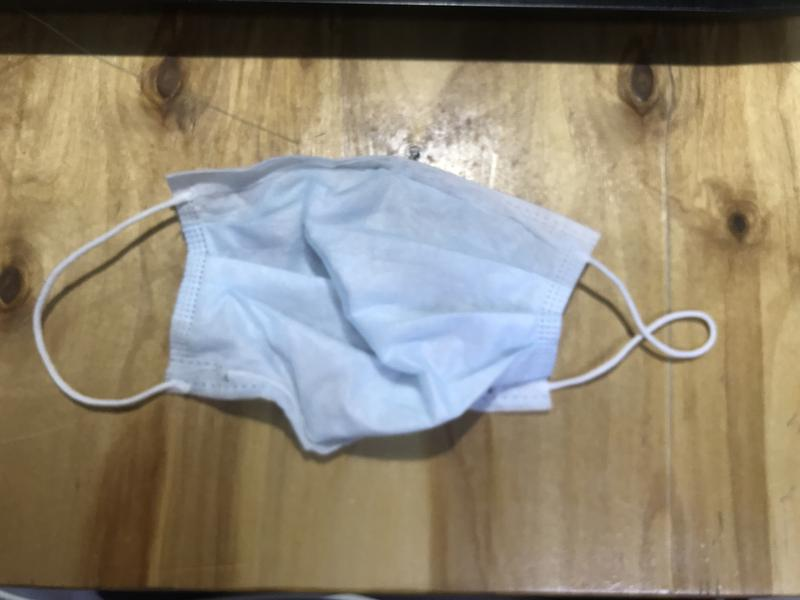medical_mask: (31, 158, 716, 455)
